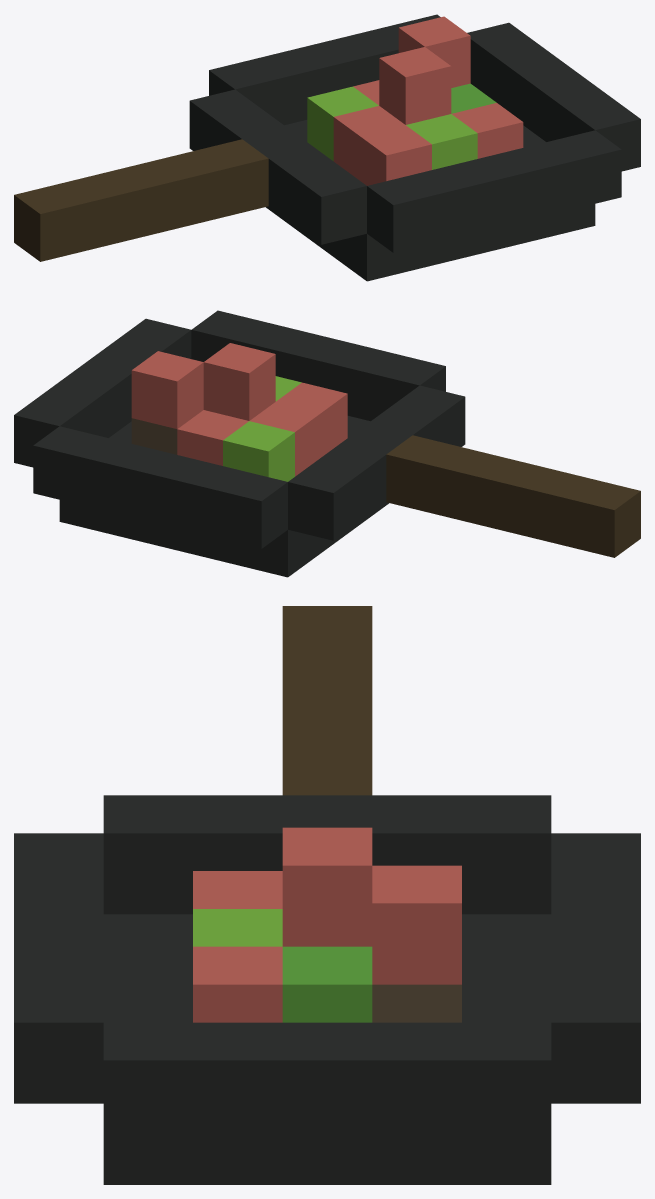
File: Boat_Booth-12-Frying_Pan.obj
3 renders of one model, top to bottom at view 1: azimuth 30°, elevation 25°; view 2: azimuth 150°, elevation 25°; view 3: azimuth 270°, elevation 25°, orthographic. The views are drawn at different scales.
Visible parts, largest first — view 1: Frying_Pan; view 2: Frying_Pan; view 3: Frying_Pan.
Boxes of the visible parts, <box> form: Frying_Pan: <box>14,14,640,281</box>; Frying_Pan: <box>14,310,640,577</box>; Frying_Pan: <box>14,606,640,1184</box>.
Size of the model in its own units: 0.24 by 0.06 by 0.14.
1 material, 1 textured.
